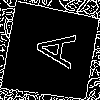A: (25, 26, 77, 69)
